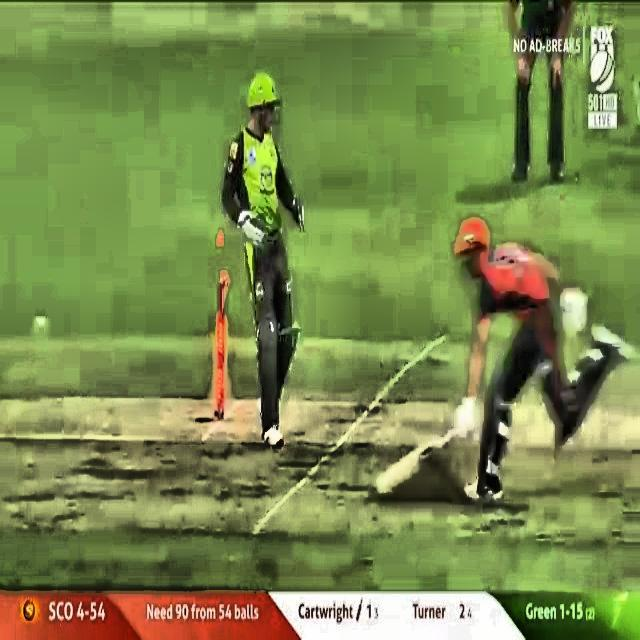Bat: (355, 388, 493, 500)
Dis_Wicket: (203, 228, 235, 423)
Pitch_Line: (247, 330, 447, 533)
